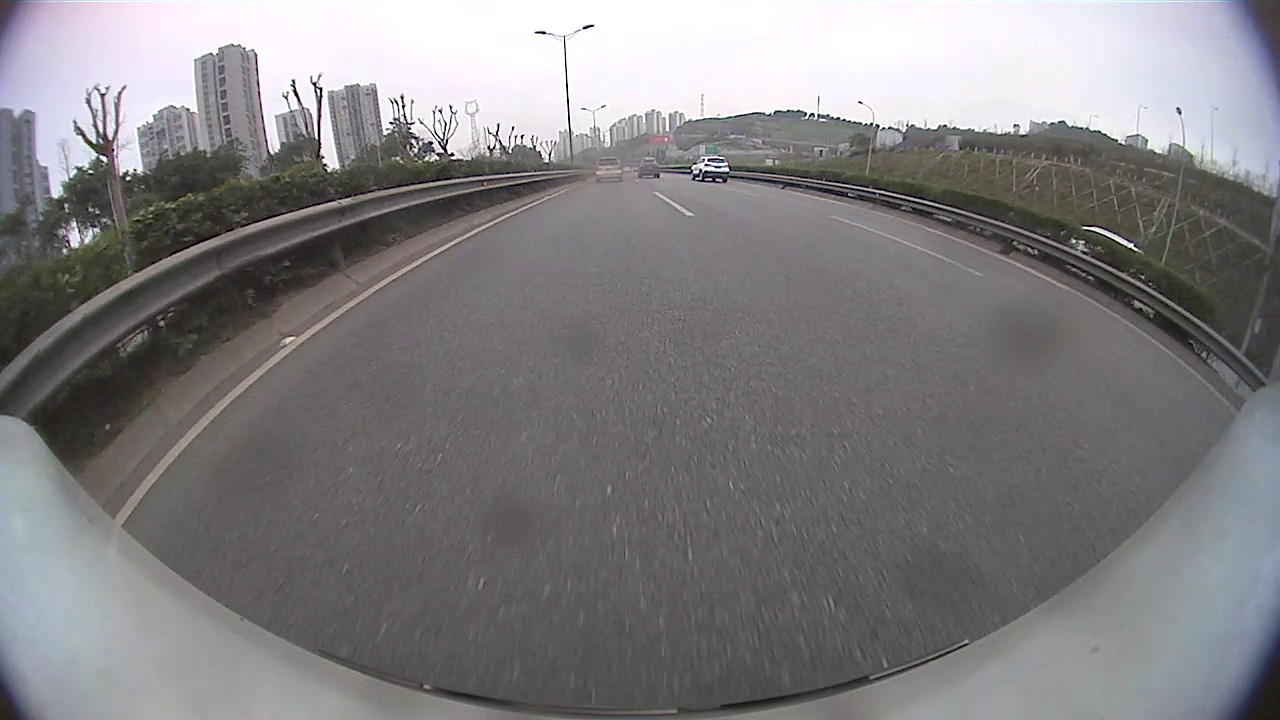car: (688, 153, 730, 183), (593, 155, 623, 181), (635, 155, 661, 179)
